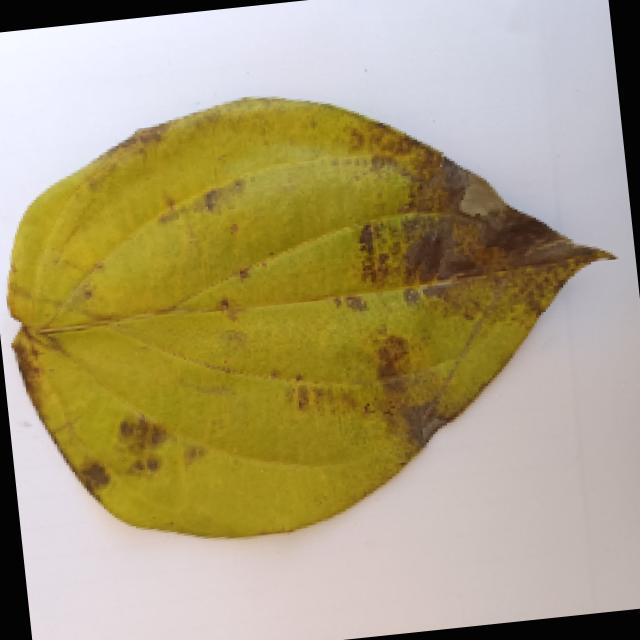slow-decline: (0, 51, 626, 544)
